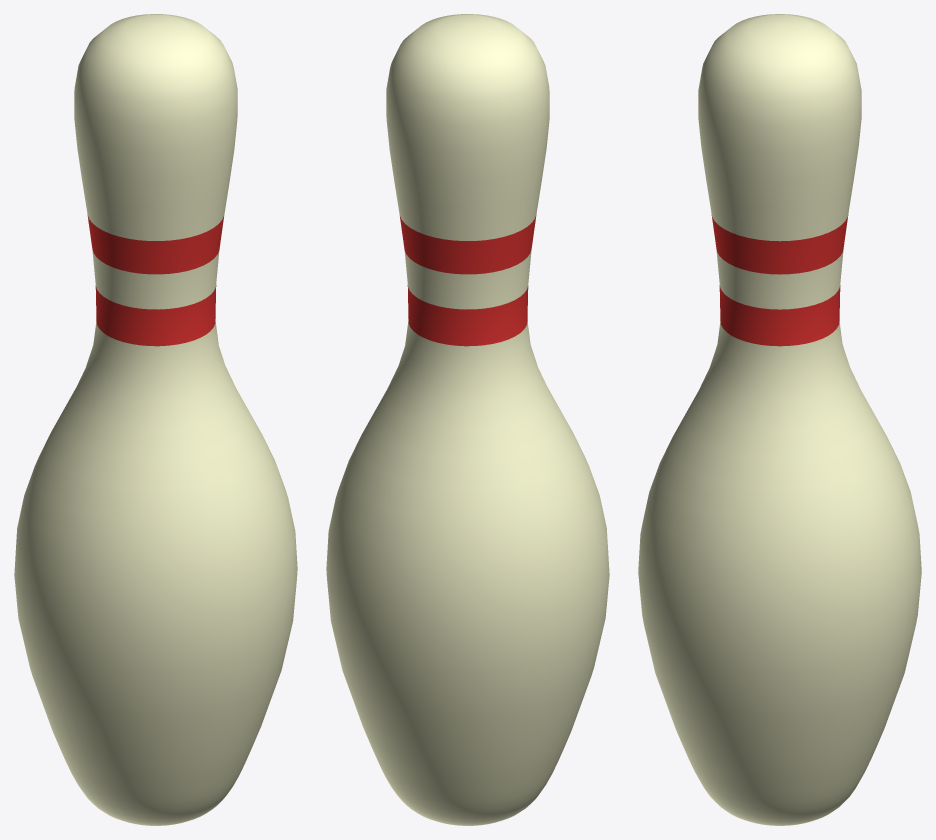
File: Bowling.dae
The picture shows the model from 3 angles, left to right: view 1: azimuth 30°, elevation 25°; view 2: azimuth 150°, elevation 25°; view 3: azimuth 270°, elevation 25°; orthographic projection.
Parts seen in each view (by area): view 1: Pin9; view 2: Pin9; view 3: Pin9.
Part boxes in pixels (bbox=[...]): Pin9: bbox=[14, 14, 297, 825]; Pin9: bbox=[326, 14, 609, 825]; Pin9: bbox=[638, 14, 921, 825].
Bounding box in the file's own units: 1.24 × 1.24 × 3.8.
